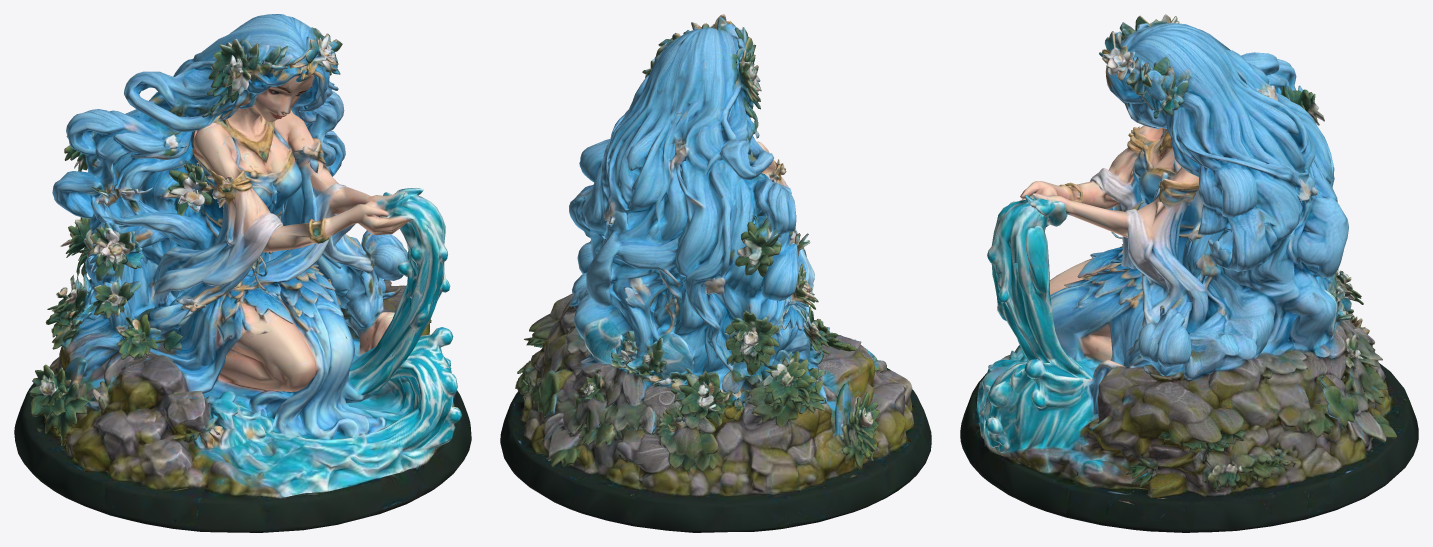
The model's file is nymph.glb.
The picture shows the model from 3 angles, left to right: view 1: azimuth 30°, elevation 25°; view 2: azimuth 150°, elevation 25°; view 3: azimuth 270°, elevation 25°; orthographic projection. The views are drawn at different scales.
Size of the model in its own units: 1.85 by 1.9 by 1.85.
Materials: 1 (1 with a texture image).
